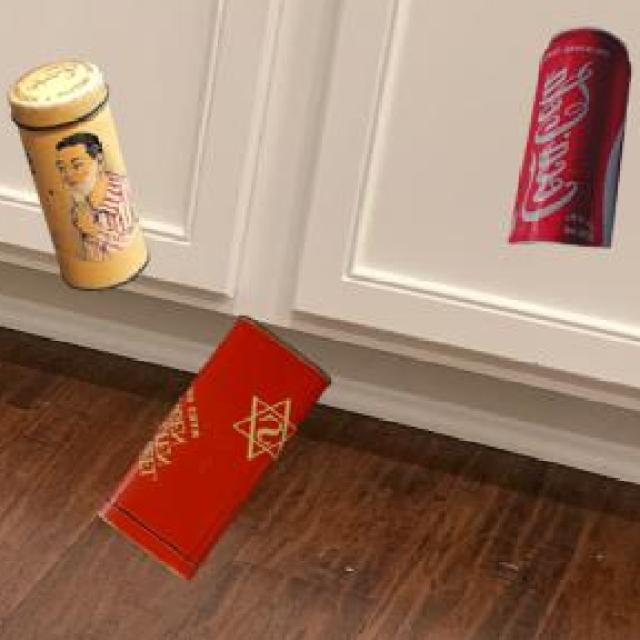logam: (101, 312, 334, 577), (12, 57, 152, 288), (512, 23, 634, 243)
